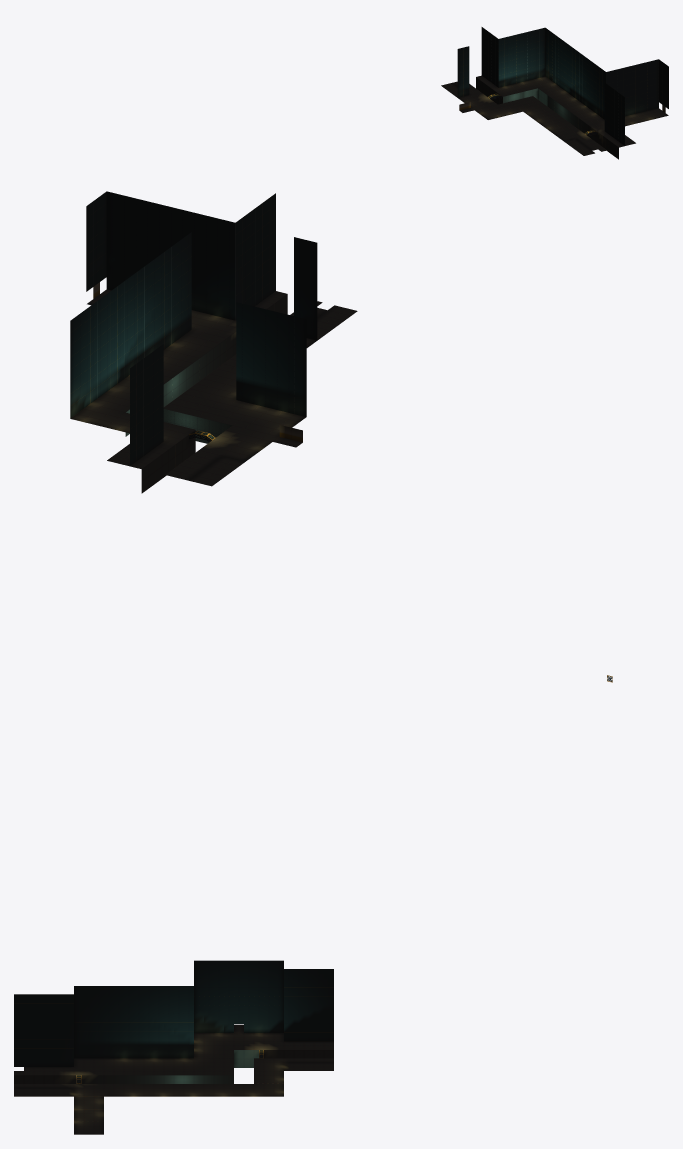
The model's file is underground-4.gltf.
3 renders of one model, top to bottom at view 1: azimuth 30°, elevation 25°; view 2: azimuth 150°, elevation 25°; view 3: azimuth 270°, elevation 25°, orthographic. The views are drawn at different scales.
Parts seen in each view (by area): view 1: default; view 2: default; view 3: default.
Boxes of the visible parts, bbox=[...] form: default: bbox=[441, 27, 668, 159]; default: bbox=[70, 191, 612, 682]; default: bbox=[14, 960, 333, 1134].
Size of the model in its own units: 621 by 100 by 524.
1 material, 1 textured.
